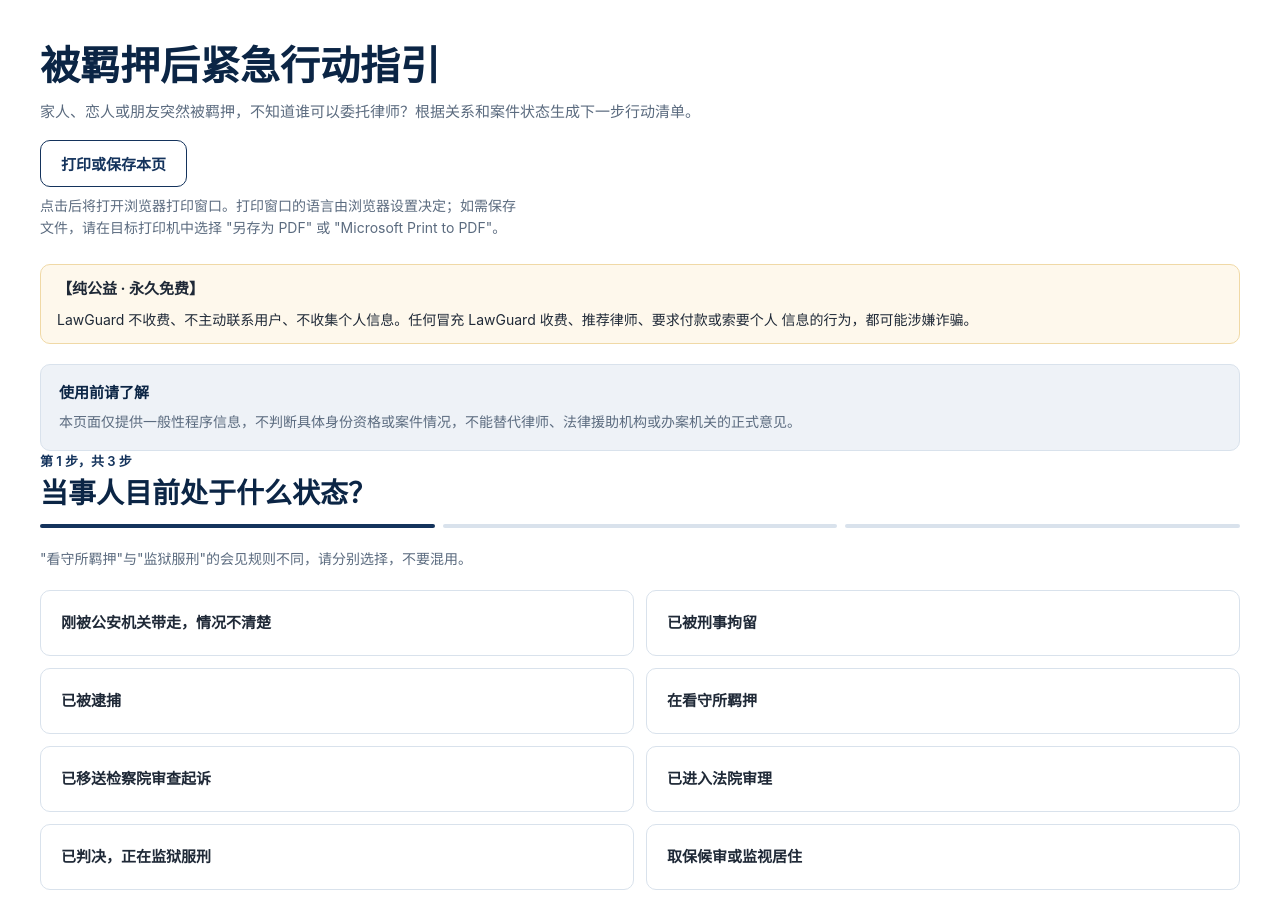
Test case: EmergencyGuideView：三步引导 + 结果页 › 一次只展示当前步骤，顶部显示"第 X 步，共 3 步"
The image size is (1280, 900).
Click the button with class "option-card" showing "在看守所羁押" at point(712, 701), box [646, 668, 1240, 734]
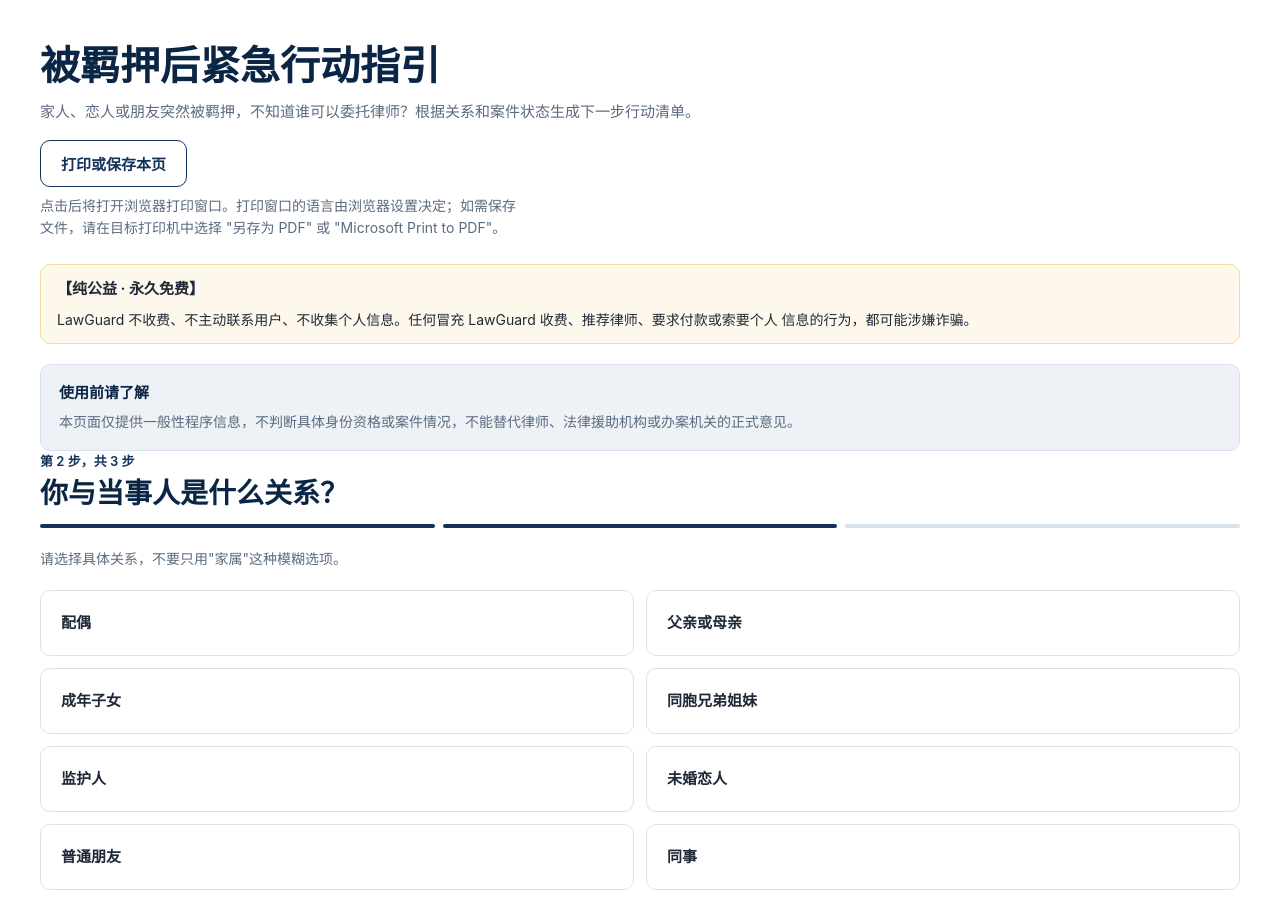
Expected: the text "第 2 步，共 3 步" is shown, [40, 453, 134, 469]
Expected: the number of buttons with class "option-card" is 10
